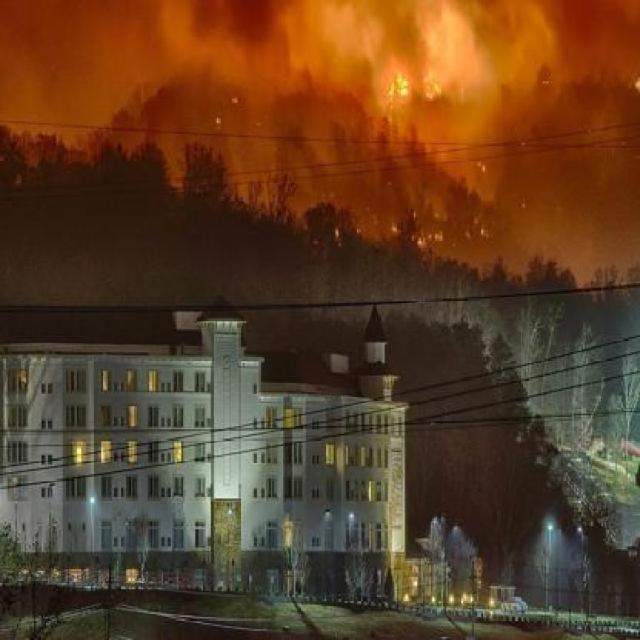Fire: (265, 15, 583, 246), (0, 8, 222, 188)
